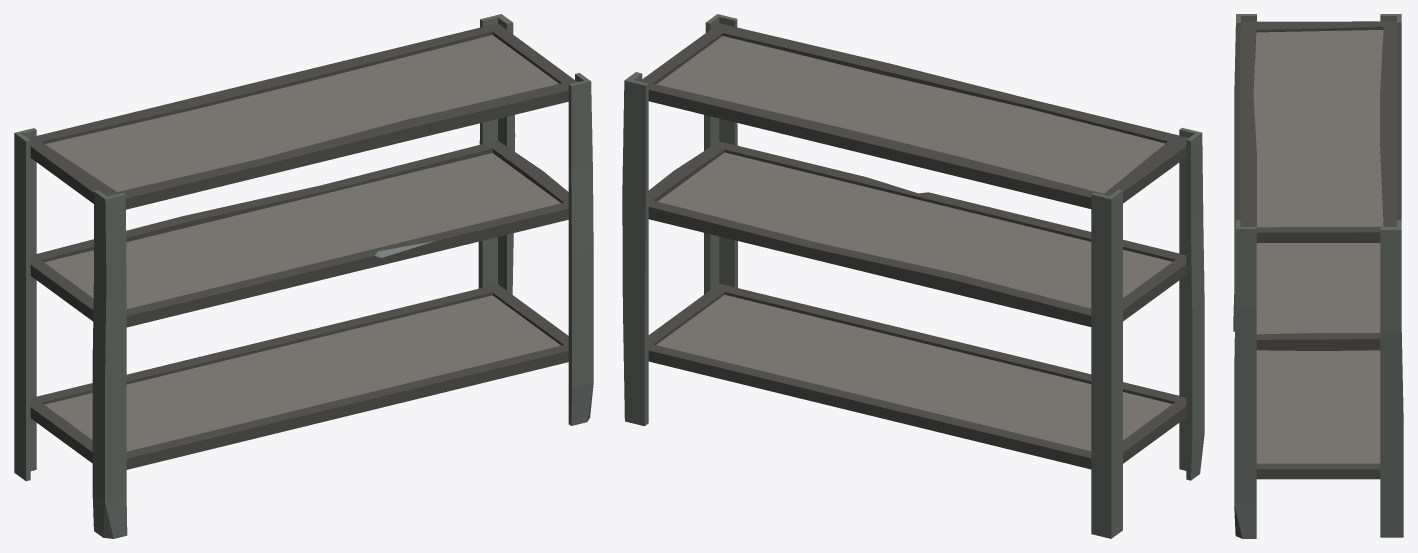
Rendered from SM_Rack_A.fbx.
The picture shows the model from 3 angles, left to right: view 1: azimuth 30°, elevation 25°; view 2: azimuth 150°, elevation 25°; view 3: azimuth 270°, elevation 25°; orthographic projection. The views are drawn at different scales.
Parts seen in each view (by area): view 1: SM_Rack_A; view 2: SM_Rack_A; view 3: SM_Rack_A.
Boxes of the visible parts, x1,y1,x2,y2 form: SM_Rack_A: (14,14,593,538); SM_Rack_A: (622,14,1204,538); SM_Rack_A: (1233,14,1403,538).
Bounding box in the file's own units: 302 × 200 × 100.
